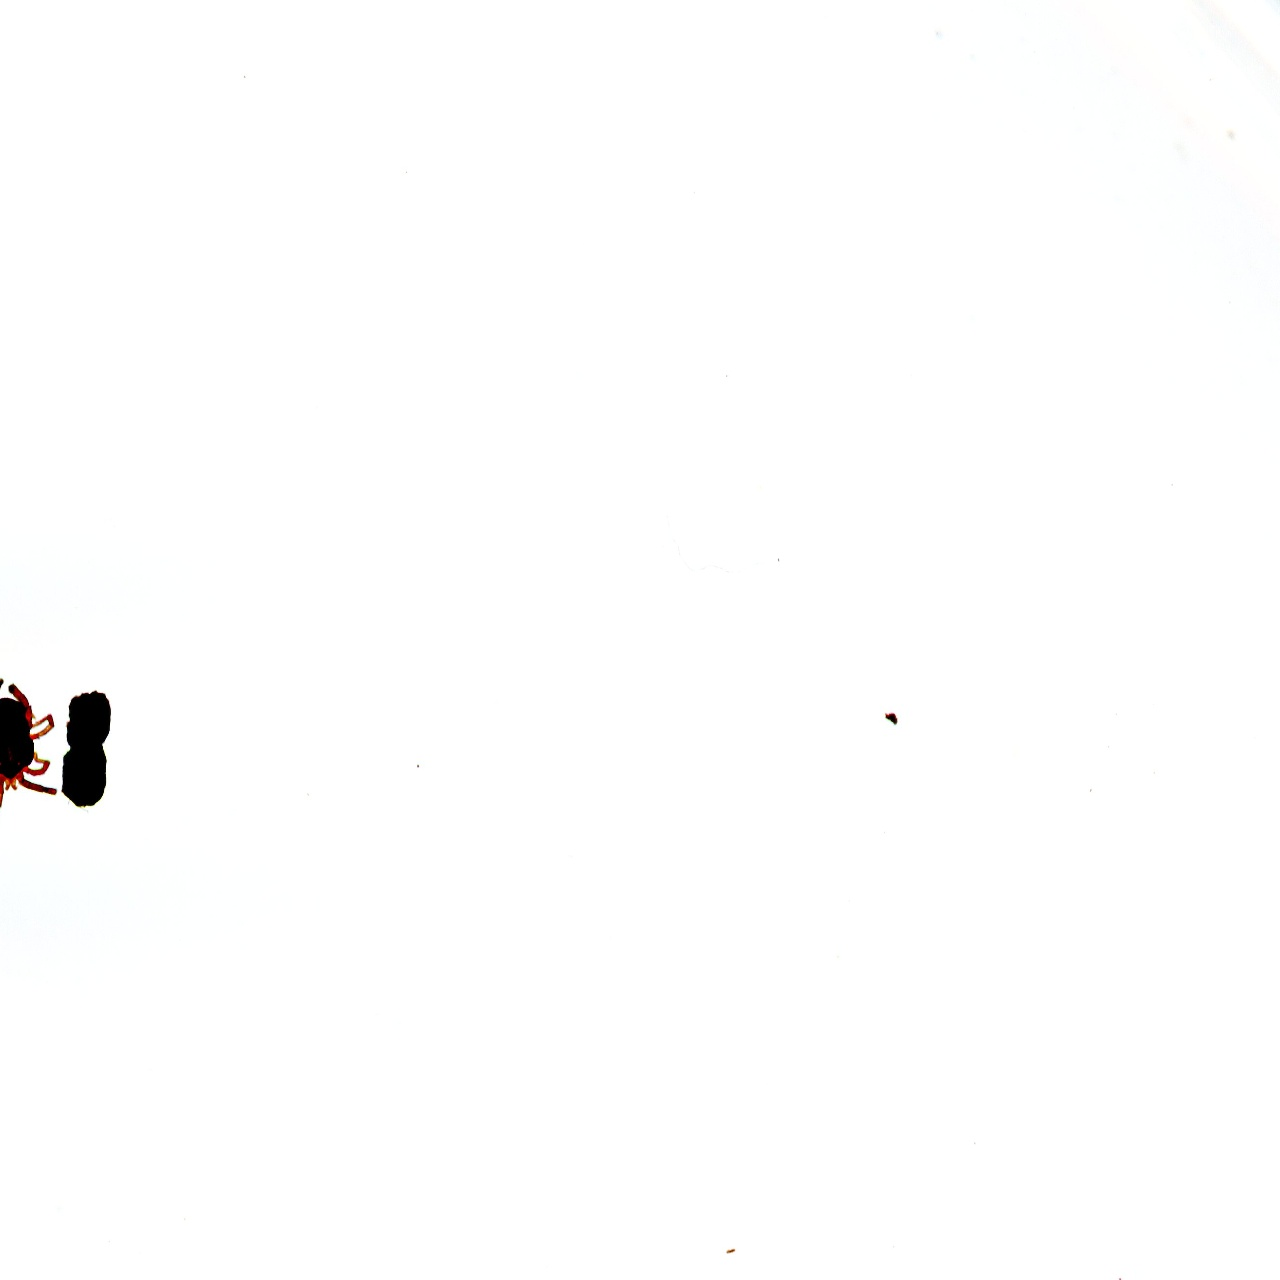arthropod: (0, 676, 57, 828)
